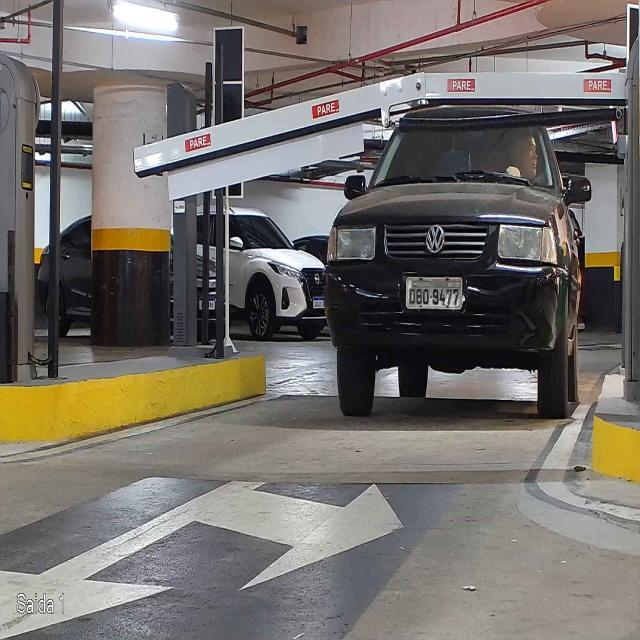old_plate: (404, 276, 465, 311)
